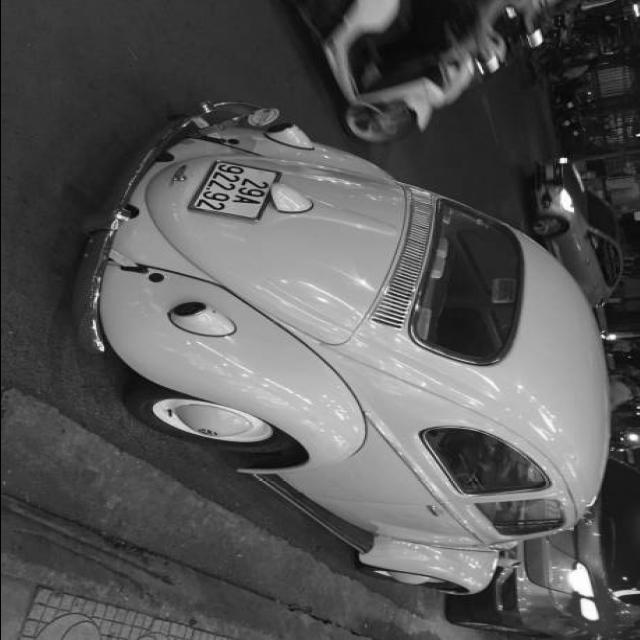car: (102, 116, 598, 586)
